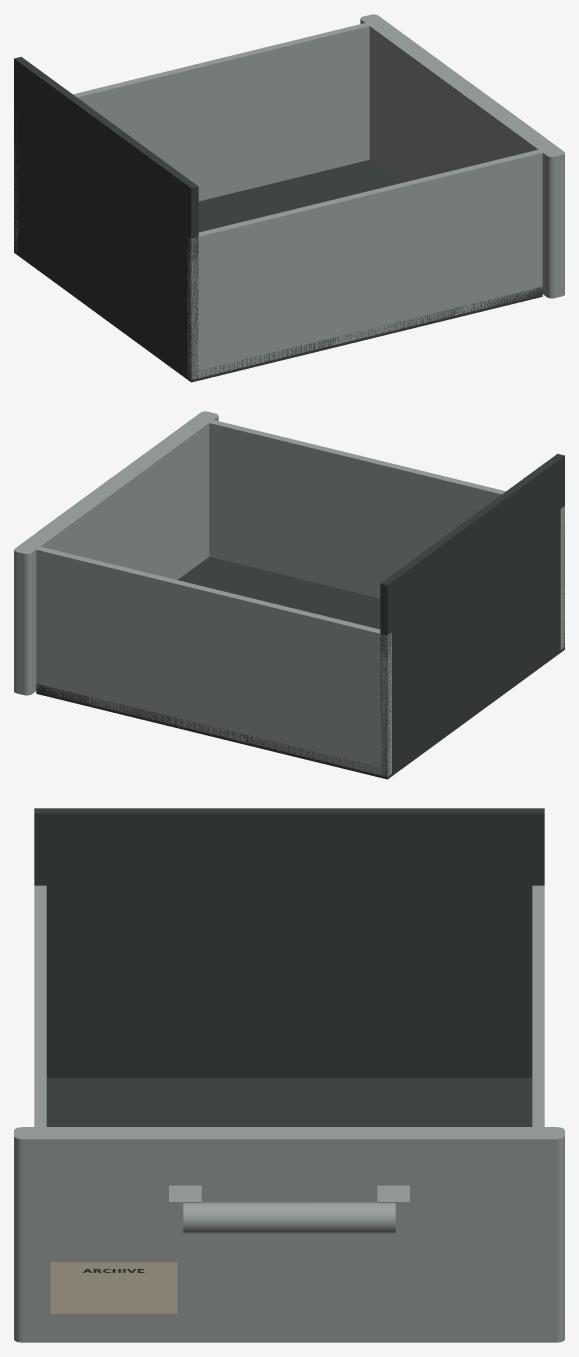
Rendered from SM_ArchiveProps_FireDrawer.glb.
3 views of the same model, one above another, from view 1: azimuth 30°, elevation 25°; view 2: azimuth 150°, elevation 25°; view 3: azimuth 270°, elevation 25° (orthographic). The views are drawn at different scales.
Visible parts, largest first — view 1: SM_ArchiveProps_FireDrawer; view 2: SM_ArchiveProps_FireDrawer; view 3: SM_ArchiveProps_FireDrawer.
Part boxes in pixels (x1,y1,x2,y2): SM_ArchiveProps_FireDrawer: (14, 14, 564, 382); SM_ArchiveProps_FireDrawer: (14, 411, 564, 779); SM_ArchiveProps_FireDrawer: (14, 808, 564, 1342).
Size of the model in its own units: 0.331 by 0.151 by 0.27.
3 materials, 1 textured.
